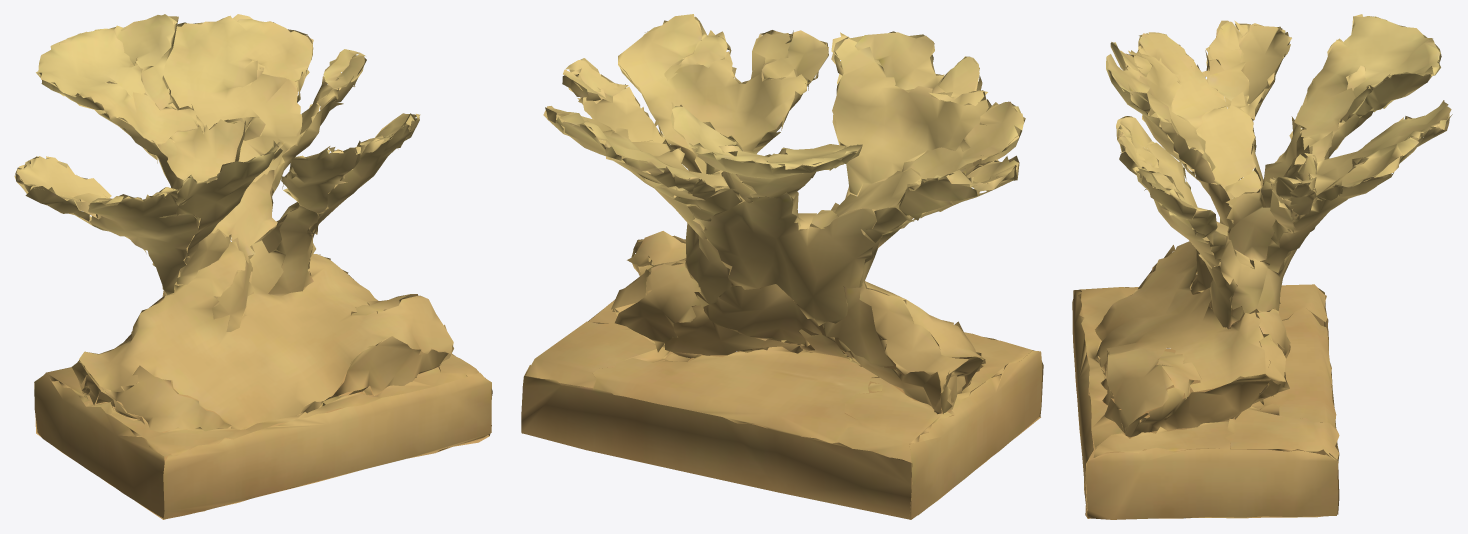
File: acropora_palmata.glb
3 views of the same model, side by side, from view 1: azimuth 30°, elevation 25°; view 2: azimuth 150°, elevation 25°; view 3: azimuth 270°, elevation 25° (orthographic). The views are drawn at different scales.
Parts seen in each view (by area): view 1: acropora_palmata_near; view 2: acropora_palmata_near; view 3: acropora_palmata_near.
Part boxes in pixels (x1,y1,x2,y2): acropora_palmata_near: (14, 14, 492, 519); acropora_palmata_near: (521, 14, 1043, 519); acropora_palmata_near: (1072, 14, 1452, 519).
Size of the model in its own units: 0.4522 by 0.3884 by 0.3681.
Materials: 1 (1 with a texture image).
